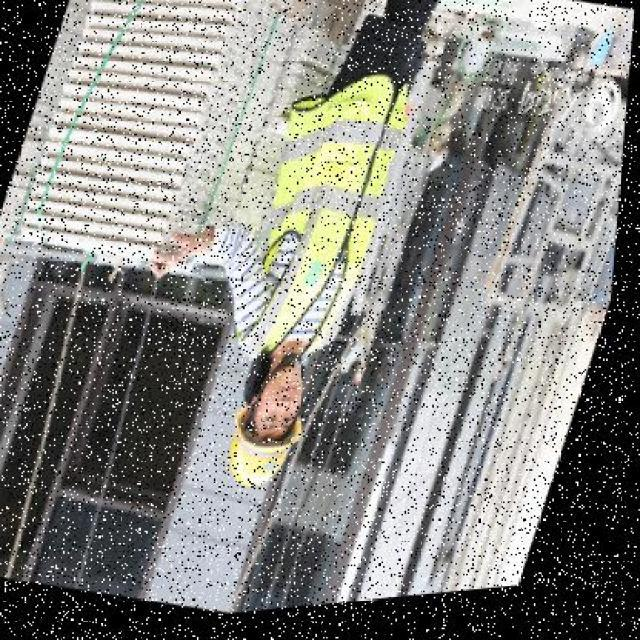helmet: (219, 406, 322, 507)
vest: (219, 79, 426, 395)
